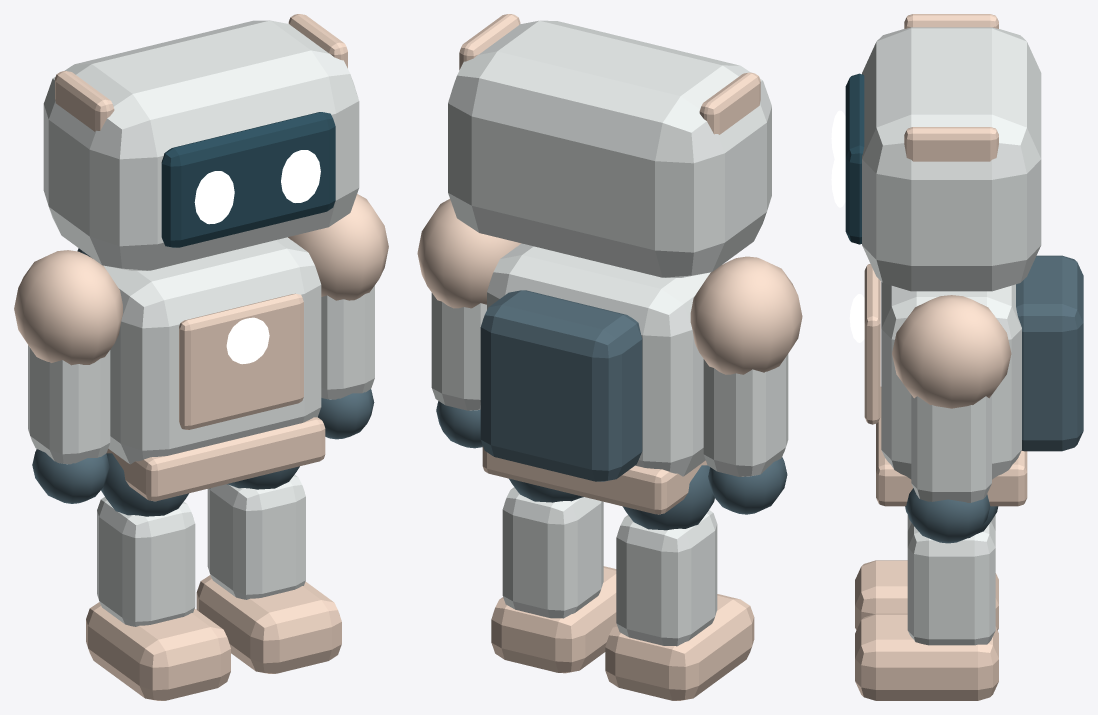
Rendered from kairo.glb.
3 views of the same model, side by side, from view 1: azimuth 30°, elevation 25°; view 2: azimuth 150°, elevation 25°; view 3: azimuth 270°, elevation 25° (orthographic). The views are drawn at different scales.
Visible parts, largest first — view 1: Head, Torso, Visor, Chest plate, Leg.011, Leg, Boot.011, Shoulder.011, Boot, Belt, Arm.011, Shoulder (+10 smaller); view 2: Head, Pack, Torso, Leg.011, Leg, Shoulder.011, Boot.011, Arm.011, Boot, Shoulder, Belt, Arm (+6 smaller); view 3: Head, Pack, Shoulder, Torso, Leg, Boot, Arm, Ear fins, Belt, Boot.011, Visor, Hand (+5 smaller).
Part boxes in pixels (bbox=[...]): Head: bbox=[43, 20, 359, 270]; Torso: bbox=[103, 237, 321, 464]; Visor: bbox=[161, 112, 335, 247]; Chest plate: bbox=[179, 293, 303, 429]; Leg.011: bbox=[97, 497, 195, 626]; Leg: bbox=[207, 474, 305, 599]; Boot.011: bbox=[86, 602, 230, 700]; Shoulder.011: bbox=[14, 250, 122, 365]; Boot: bbox=[196, 575, 341, 673]; Belt: bbox=[106, 417, 325, 501]; Arm.011: bbox=[28, 345, 110, 464]; Shoulder: bbox=[288, 194, 388, 300]; Head: bbox=[448, 20, 771, 277]; Pack: bbox=[480, 290, 642, 481]; Torso: bbox=[487, 243, 710, 476]; Leg.011: bbox=[616, 510, 717, 646]; Leg: bbox=[502, 487, 603, 618]; Shoulder.011: bbox=[690, 256, 802, 374]; Boot.011: bbox=[605, 594, 754, 700]; Arm.011: bbox=[703, 354, 788, 476]; Boot: bbox=[491, 566, 616, 673]; Shoulder: bbox=[417, 199, 520, 308]; Belt: bbox=[482, 446, 707, 514]; Arm: bbox=[431, 293, 486, 410]; Head: bbox=[862, 27, 1041, 291]; Pack: bbox=[1016, 255, 1083, 451]; Shoulder: bbox=[892, 295, 1011, 408]; Torso: bbox=[881, 282, 1021, 479]; Leg: bbox=[907, 522, 995, 645]; Boot: bbox=[855, 613, 998, 700]; Arm: bbox=[911, 395, 991, 502]; Ear fins: bbox=[904, 127, 998, 161]; Belt: bbox=[876, 387, 1027, 506]; Boot.011: bbox=[855, 560, 998, 630]; Visor: bbox=[845, 73, 864, 244]; Hand: bbox=[906, 488, 990, 543].
Size of the model in its own units: 1.16 by 1.85 by 0.717.
